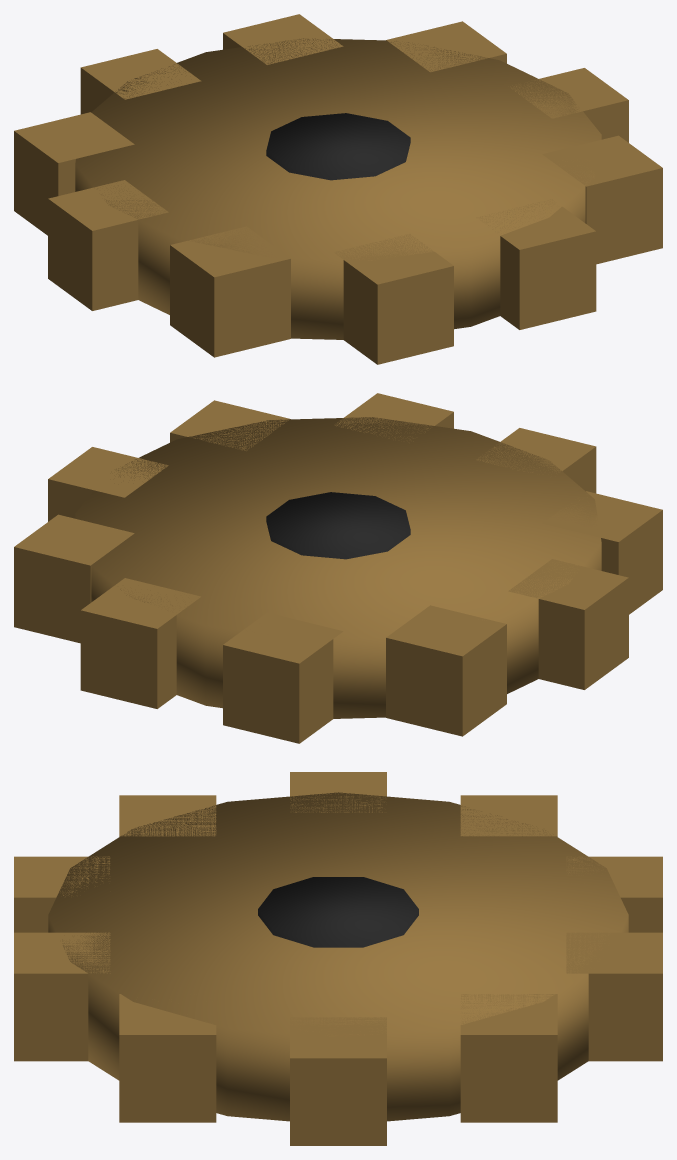
Rendered from cog.glb.
3 renders of one model, top to bottom at view 1: azimuth 30°, elevation 25°; view 2: azimuth 150°, elevation 25°; view 3: azimuth 270°, elevation 25°, orthographic. The views are drawn at different scales.
Visible parts, largest first — view 1: cog_v0; view 2: cog_v0; view 3: cog_v0.
Part boxes in pixels (box(x1,y1,x2,y2)): cog_v0: box(14, 14, 662, 364); cog_v0: box(14, 393, 662, 743); cog_v0: box(14, 772, 662, 1145).
Bounding box in the file's own units: 0.21 × 0.034 × 0.2012.
